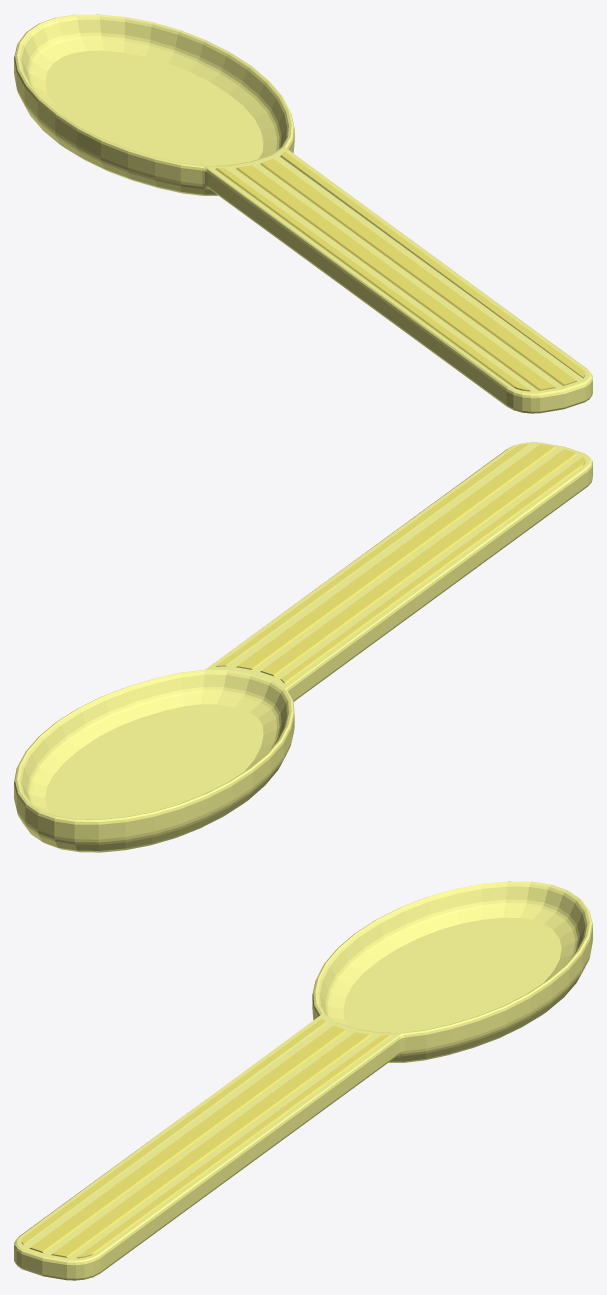
The model's file is Spoon.fbx.
3 views of the same model, one above another, from view 1: azimuth 30°, elevation 25°; view 2: azimuth 150°, elevation 25°; view 3: azimuth 330°, elevation 25° (orthographic).
Visible parts, largest first — view 1: Circle1; view 2: Circle1; view 3: Circle1.
Boxes of the visible parts, x1,y1,x2,y2 form: Circle1: (14, 14, 592, 413); Circle1: (14, 442, 592, 852); Circle1: (14, 881, 592, 1280).
Bounding box in the file's own units: 218 × 976 × 41.42.
1 material, 1 textured.
